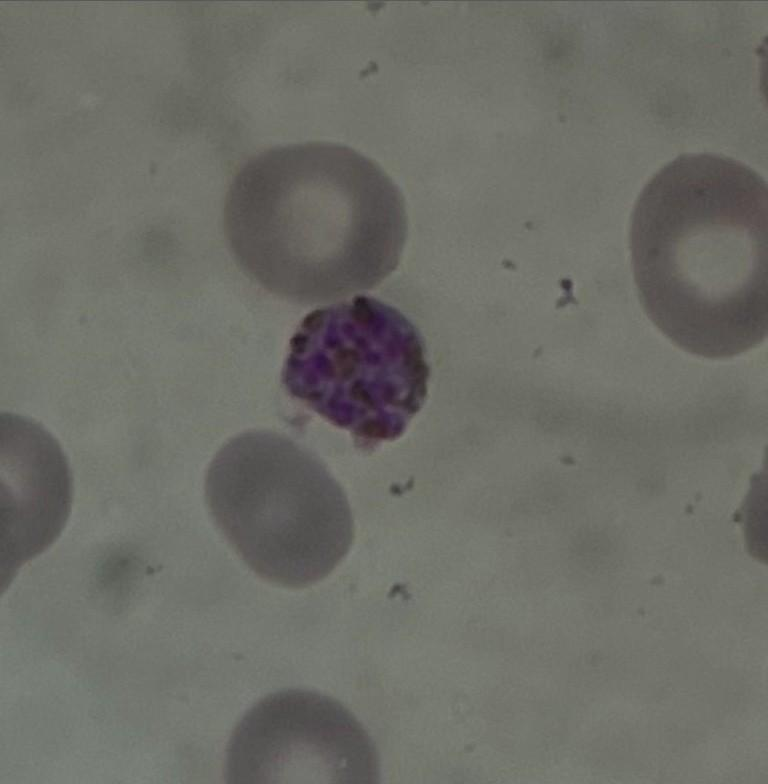Infected: (288, 299, 429, 451)
Uninfected: (223, 142, 412, 297), (635, 147, 768, 355), (207, 431, 356, 591)
